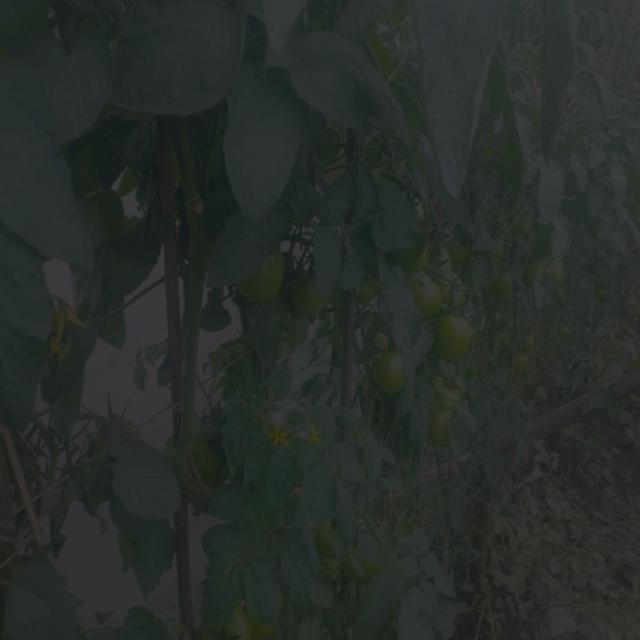tomato: (405, 224, 518, 309), (167, 605, 298, 640), (225, 241, 288, 308), (426, 375, 467, 449), (187, 426, 231, 491), (497, 328, 538, 378), (441, 317, 481, 363), (342, 549, 387, 587), (293, 269, 327, 318), (373, 359, 412, 401), (529, 262, 570, 294), (267, 321, 296, 366), (345, 272, 375, 312), (593, 268, 612, 305), (320, 524, 337, 563), (520, 215, 539, 243), (371, 333, 392, 352), (557, 324, 570, 338)
